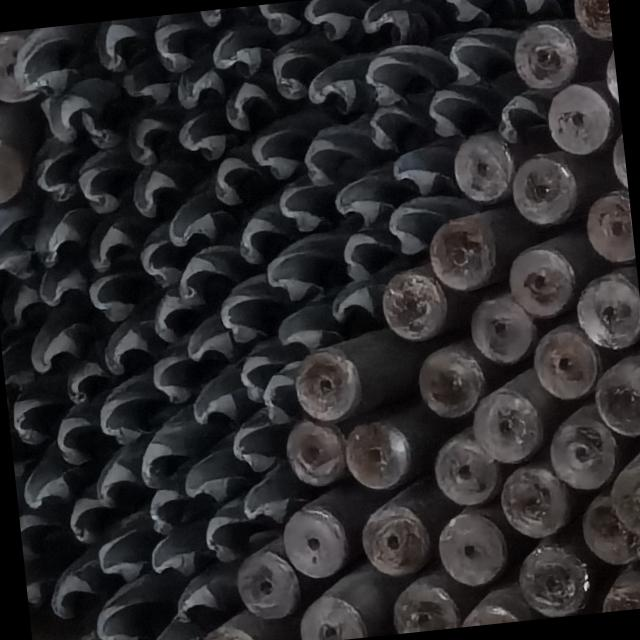tool: (468, 372, 544, 463), (355, 499, 438, 579), (372, 266, 454, 346), (514, 538, 594, 616), (422, 214, 499, 294), (497, 459, 572, 538), (435, 508, 509, 588), (507, 237, 580, 318), (545, 78, 620, 156), (546, 409, 618, 490), (413, 341, 485, 421), (530, 319, 601, 400), (573, 265, 640, 350), (280, 502, 351, 582), (466, 289, 536, 366), (510, 150, 580, 227), (428, 429, 498, 506), (511, 15, 582, 90), (344, 418, 415, 492), (231, 547, 300, 622), (579, 488, 640, 570), (450, 128, 514, 204), (298, 350, 363, 420), (388, 570, 458, 634), (590, 351, 640, 438), (292, 582, 366, 640), (285, 417, 347, 484), (583, 188, 635, 262), (452, 584, 526, 628), (0, 33, 38, 107), (195, 608, 282, 640), (608, 464, 640, 539), (0, 136, 27, 203), (569, 0, 612, 39), (601, 577, 640, 612)
tool_b: (264, 231, 352, 307), (362, 40, 454, 104), (213, 273, 290, 346), (444, 24, 524, 91), (92, 370, 161, 442), (173, 243, 246, 311), (304, 51, 378, 118), (270, 36, 336, 103), (174, 562, 246, 622), (422, 84, 498, 140), (363, 94, 432, 155), (76, 146, 136, 216), (232, 200, 296, 265), (384, 193, 450, 256), (331, 168, 398, 230), (188, 368, 248, 436), (390, 144, 460, 202), (78, 17, 150, 73), (274, 174, 340, 233), (12, 26, 67, 96), (227, 410, 286, 475), (493, 82, 552, 146), (356, 0, 441, 44), (166, 190, 230, 248), (146, 11, 206, 72), (94, 528, 154, 588), (338, 227, 401, 284), (301, 128, 370, 180), (100, 320, 158, 379), (220, 74, 280, 130), (250, 124, 304, 186), (174, 108, 232, 165), (40, 87, 96, 146), (27, 140, 77, 206), (87, 270, 148, 324), (203, 152, 260, 209), (128, 160, 184, 218), (119, 54, 174, 112), (125, 112, 181, 168), (50, 411, 105, 467), (88, 447, 140, 505), (301, 0, 367, 45), (210, 28, 265, 81), (46, 568, 98, 622), (34, 208, 82, 266), (198, 508, 246, 566), (86, 217, 136, 272), (273, 308, 329, 357), (18, 507, 66, 564), (326, 277, 379, 328), (148, 351, 198, 405), (27, 326, 84, 372), (20, 462, 74, 510), (56, 358, 106, 408), (95, 592, 146, 640), (183, 456, 234, 504), (9, 392, 51, 450), (427, 0, 507, 30), (0, 208, 34, 278), (66, 496, 111, 548), (0, 280, 44, 333), (240, 480, 296, 521), (245, 1, 306, 38), (38, 266, 88, 310), (185, 323, 235, 367), (136, 438, 180, 488), (149, 537, 200, 580), (136, 238, 178, 290), (147, 290, 188, 343), (260, 372, 300, 424), (238, 348, 278, 397), (175, 68, 222, 109), (148, 484, 185, 534), (497, 0, 576, 20), (187, 6, 250, 29), (146, 624, 197, 640), (61, 631, 108, 640)
